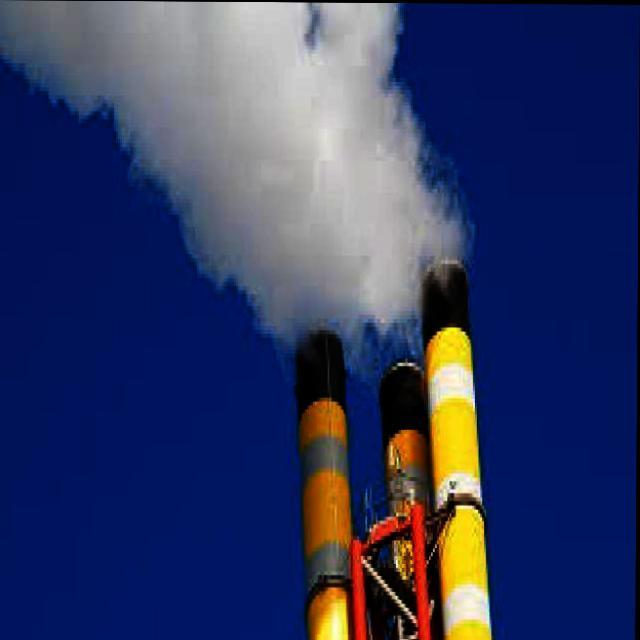Smoke: (0, 0, 482, 396)
